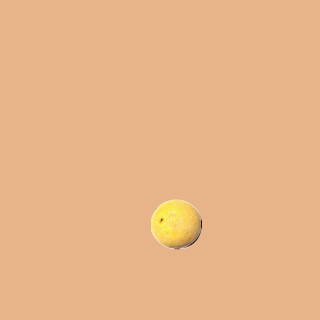Apple Braeburn: (151, 199, 201, 249)
Cantaloupe 1: (150, 198, 200, 248)
